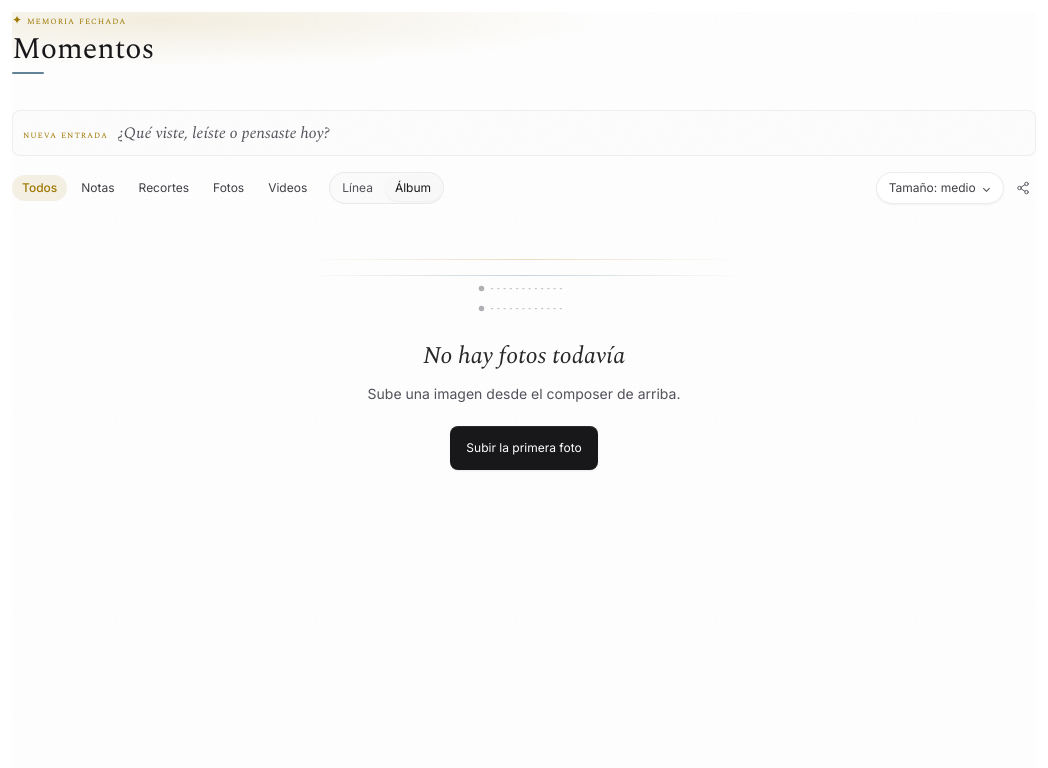
Scenario: <MomentosView /> › en el álbum sin fotos, «Subir la primera foto» abre el compositor en Foto
Click the button "Subir la primera foto". click: click(524, 448)
box: [450,426,598,470]
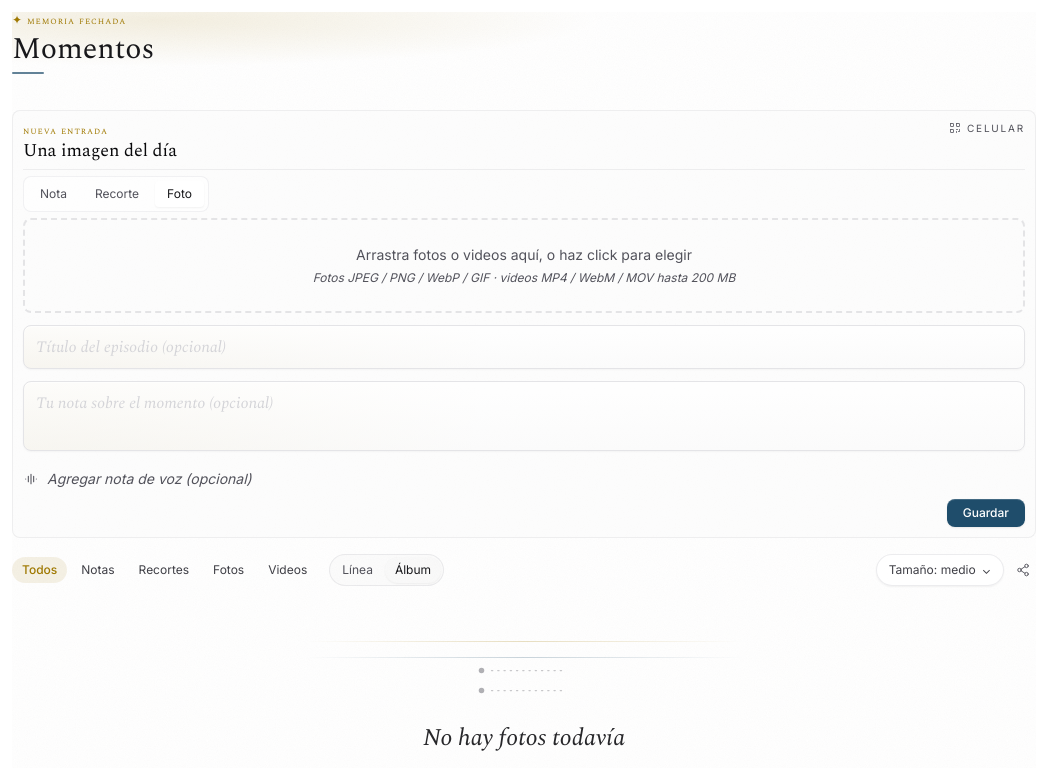
Expected: the heading "Una imagen del día" is shown, [23,140,177,162]
